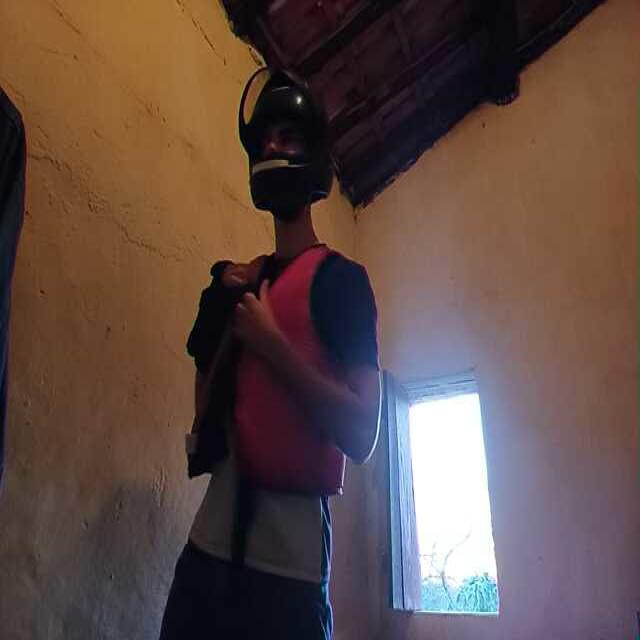capacete: (235, 73, 339, 220)
colete: (204, 249, 352, 512)
pessoa: (184, 122, 367, 640)
